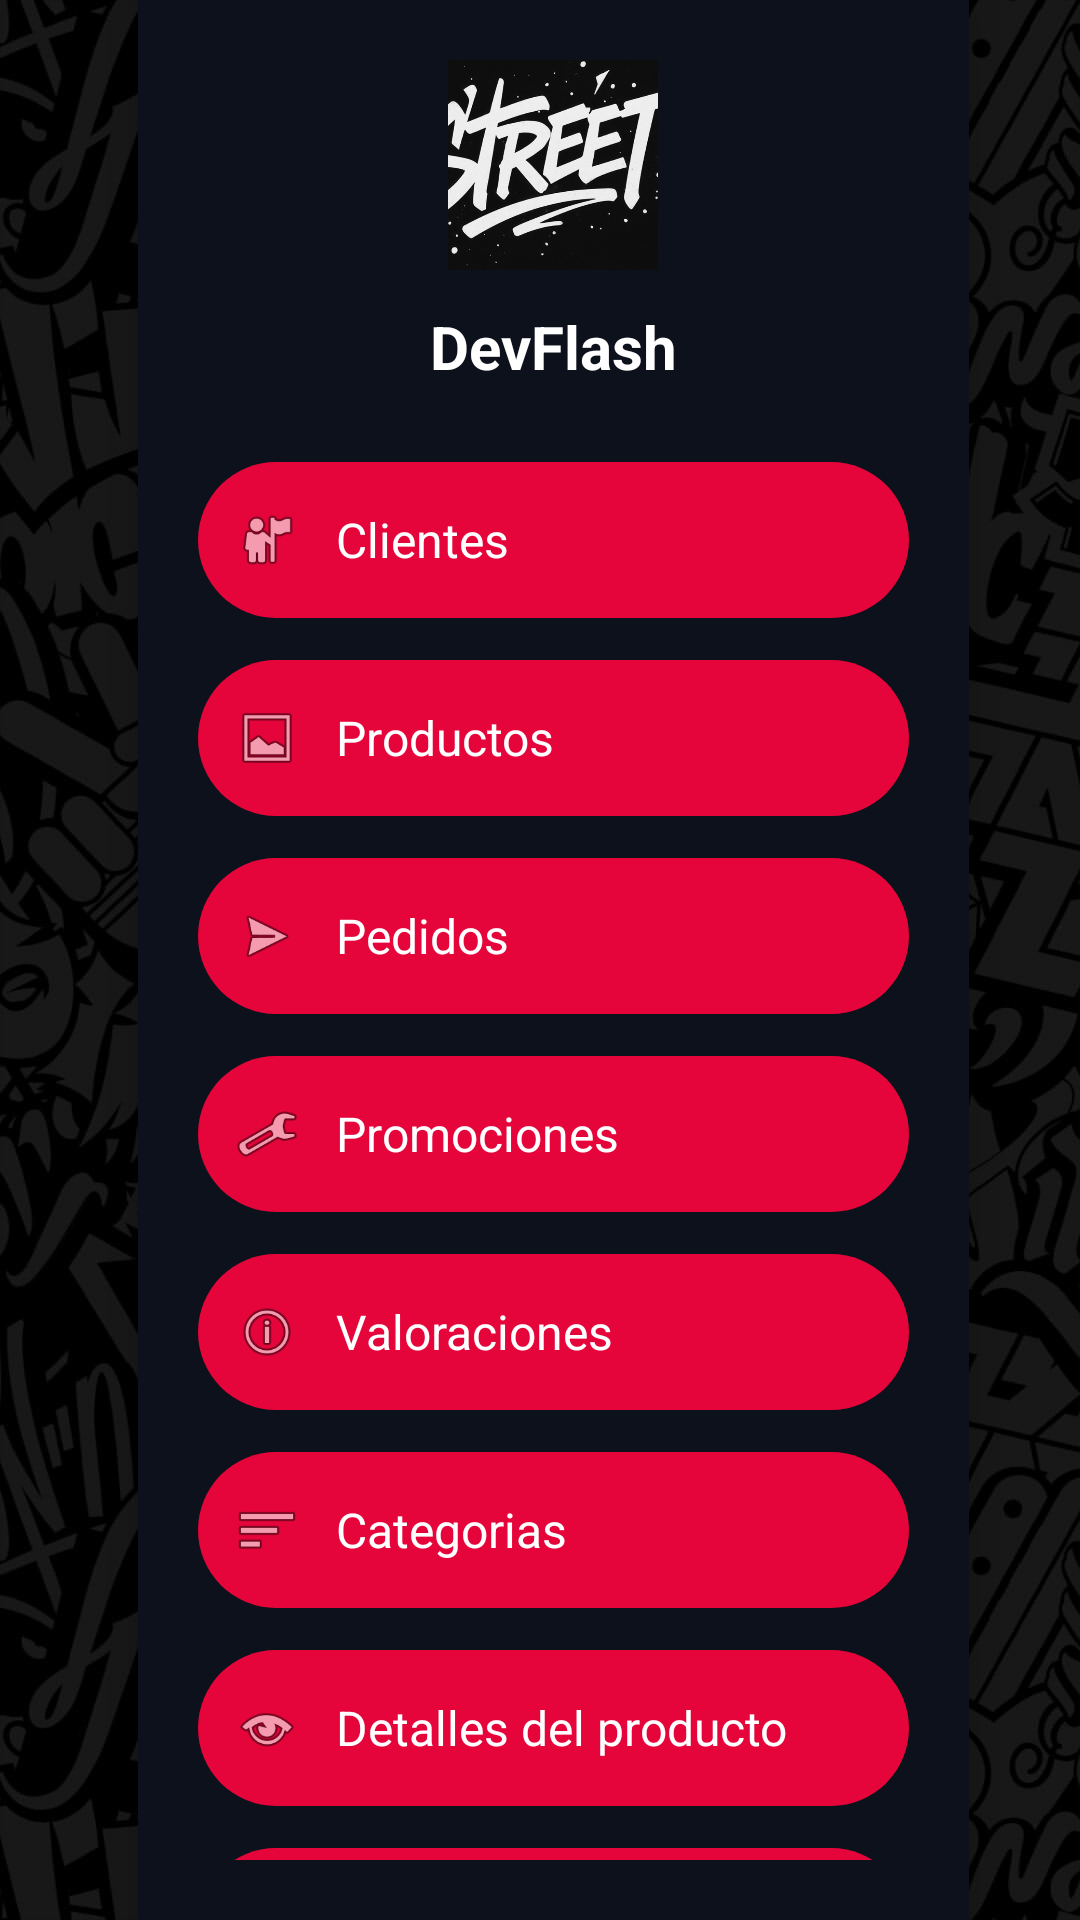

Screen size 1080x1920. Icon name, then its center in pixels as (x,y):
gallery: (267,738)
info details: (267,1332)
manage: (267,1134)
myplaces: (268,540)
send: (267,936)
sort by size: (267,1530)
streetlog: (553,165)
view: (267,1730)
